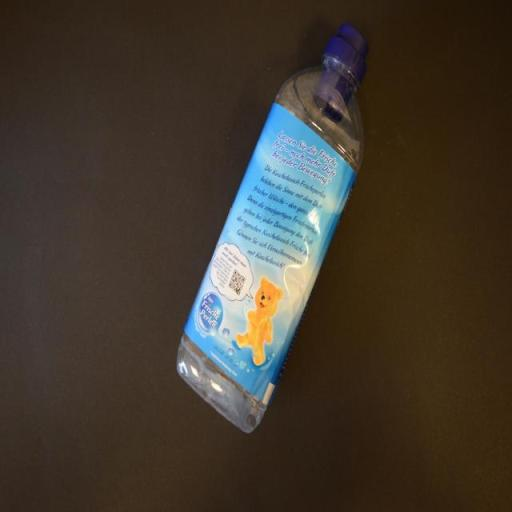plastic: (176, 20, 370, 434)
